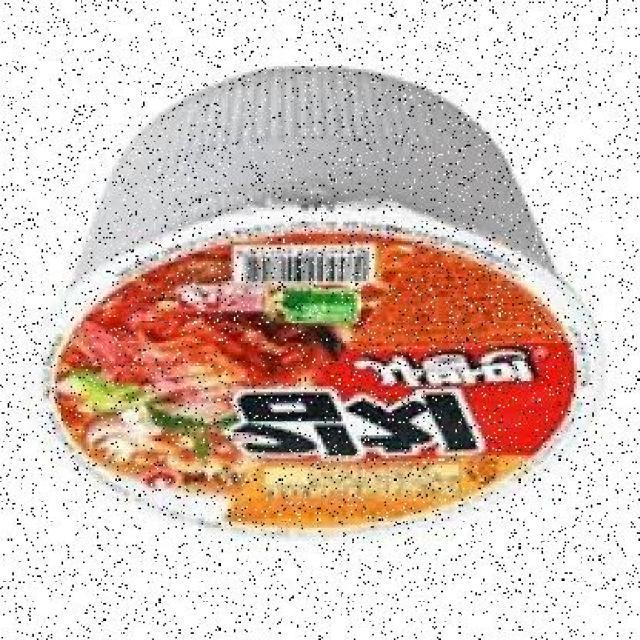Miscellaneous: (34, 61, 616, 546)
